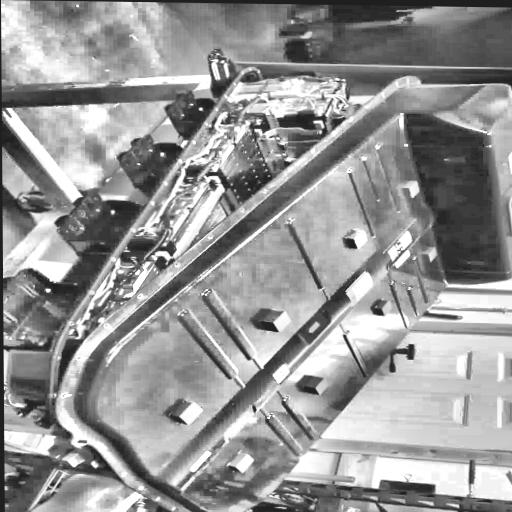b_casing: (53, 77, 512, 512)
high_volt_cable: (67, 86, 345, 340)
